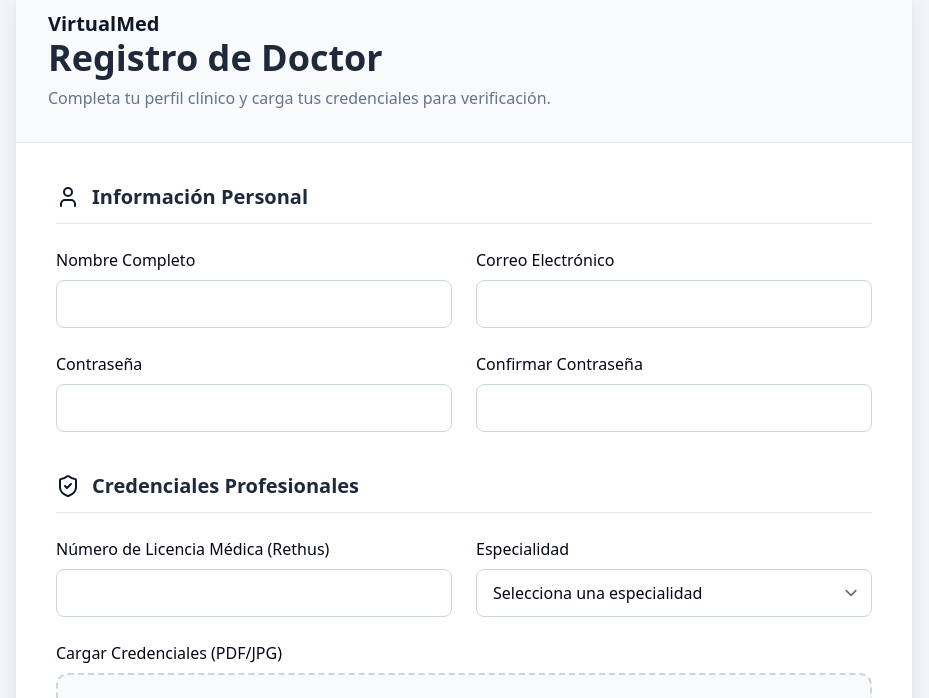
Test case: DoctorRegistrationForm › Validación de contraseña › debe marcar en verde los requisitos cumplidos
This screenshot has width=929, height=698.
In the 1st password field named "password": (254,408) 56,384 -> 452,432, type "Password123!"
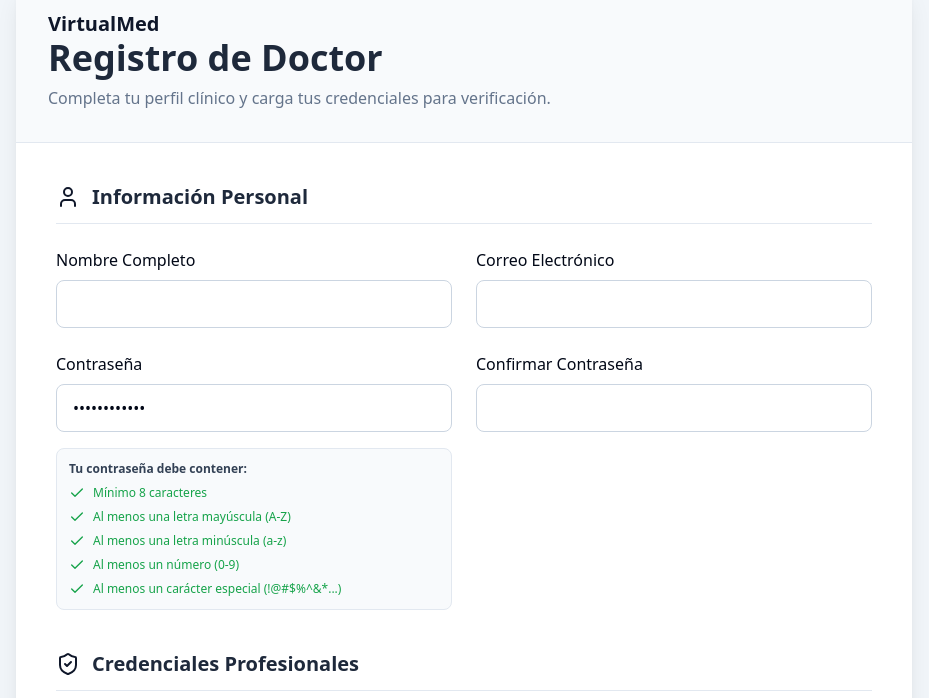
Expected: the icon next to "Mínimo 8 caracteres" is shown, 69,485 -> 85,501
